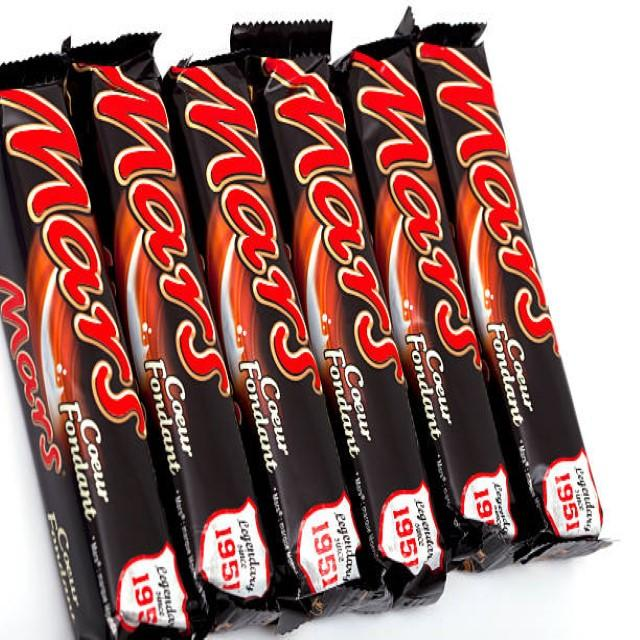mars_chocolate: (68, 37, 282, 640), (165, 55, 382, 613), (0, 53, 203, 640), (248, 57, 455, 588), (407, 18, 613, 550), (338, 30, 525, 557)
